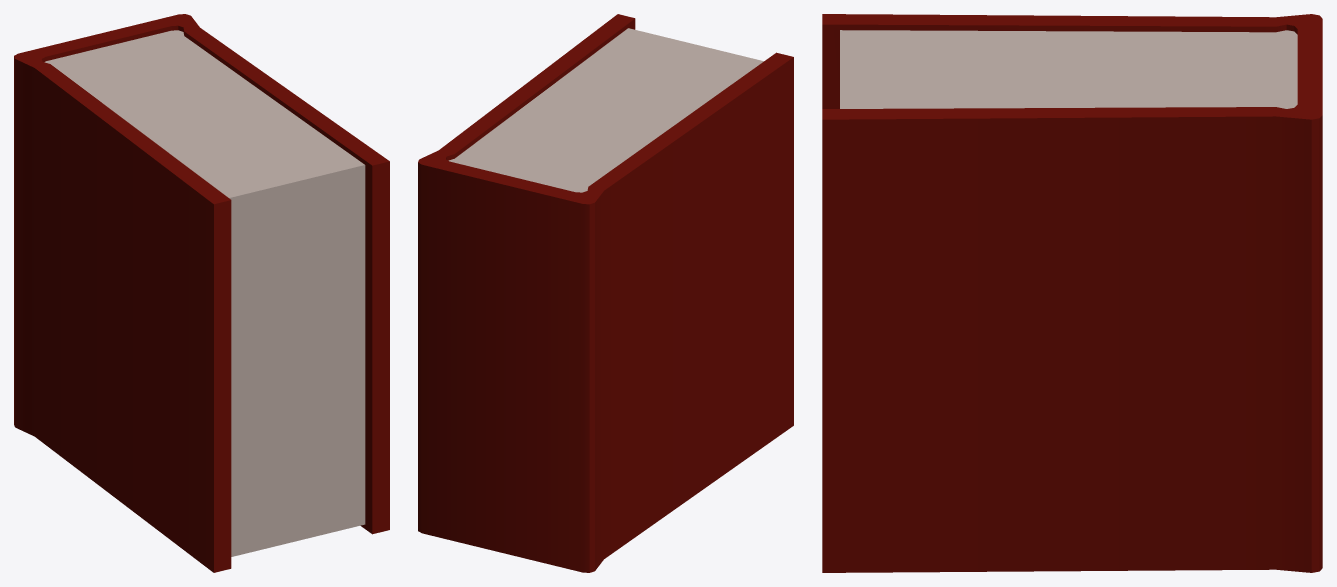
The model's file is HolyShitBook.fbx.
3 renders of one model, left to right at view 1: azimuth 30°, elevation 25°; view 2: azimuth 150°, elevation 25°; view 3: azimuth 270°, elevation 25°, orthographic. The views are drawn at different scales.
Visible parts, largest first — view 1: HolyShitBook; view 2: HolyShitBook; view 3: HolyShitBook.
Part boxes in pixels (bbox=[...]): HolyShitBook: bbox=[14, 14, 389, 572]; HolyShitBook: bbox=[418, 14, 793, 572]; HolyShitBook: bbox=[822, 14, 1322, 572].
Size of the model in its own units: 0.25 by 0.5 by 0.5.
